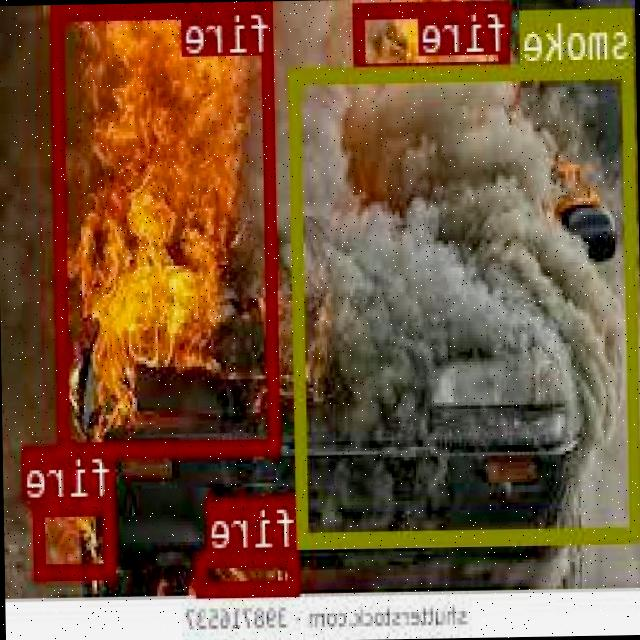fire: (52, 0, 282, 452), (356, 0, 512, 74), (37, 496, 116, 575), (197, 548, 302, 595)
smoke: (290, 60, 640, 544)
